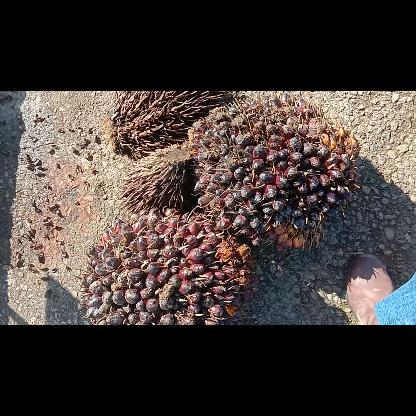Janjang kosong: (104, 90, 222, 160), (115, 142, 195, 218)
TBS mentah: (187, 92, 359, 250), (78, 206, 257, 324)
